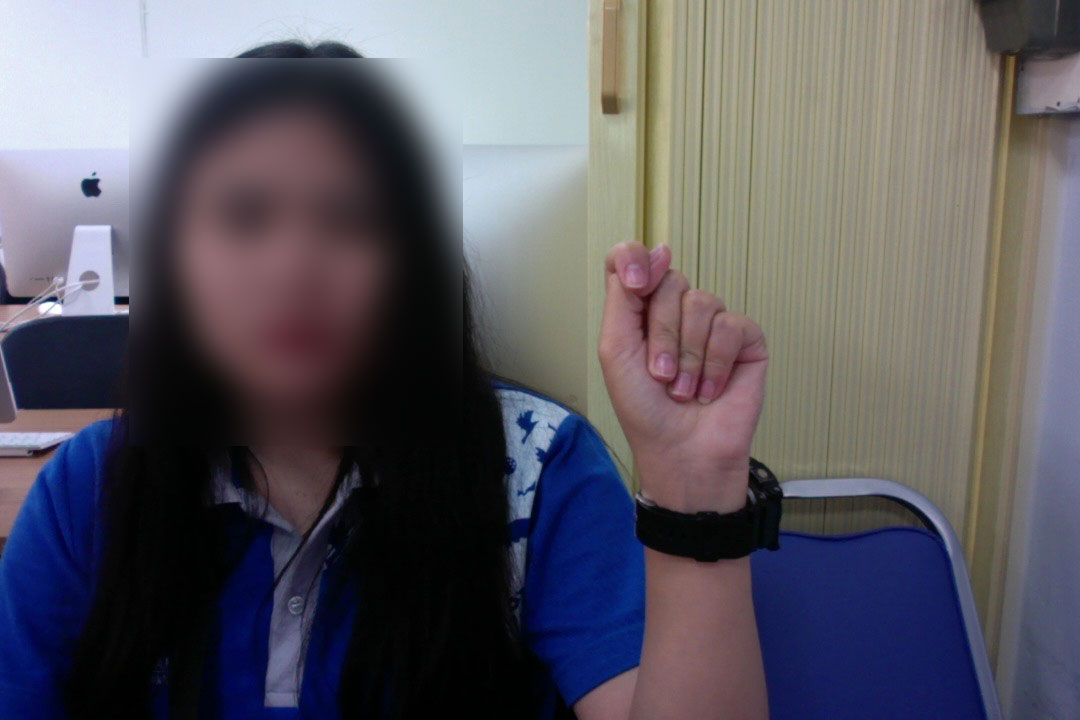tor: (588, 237, 776, 490)
